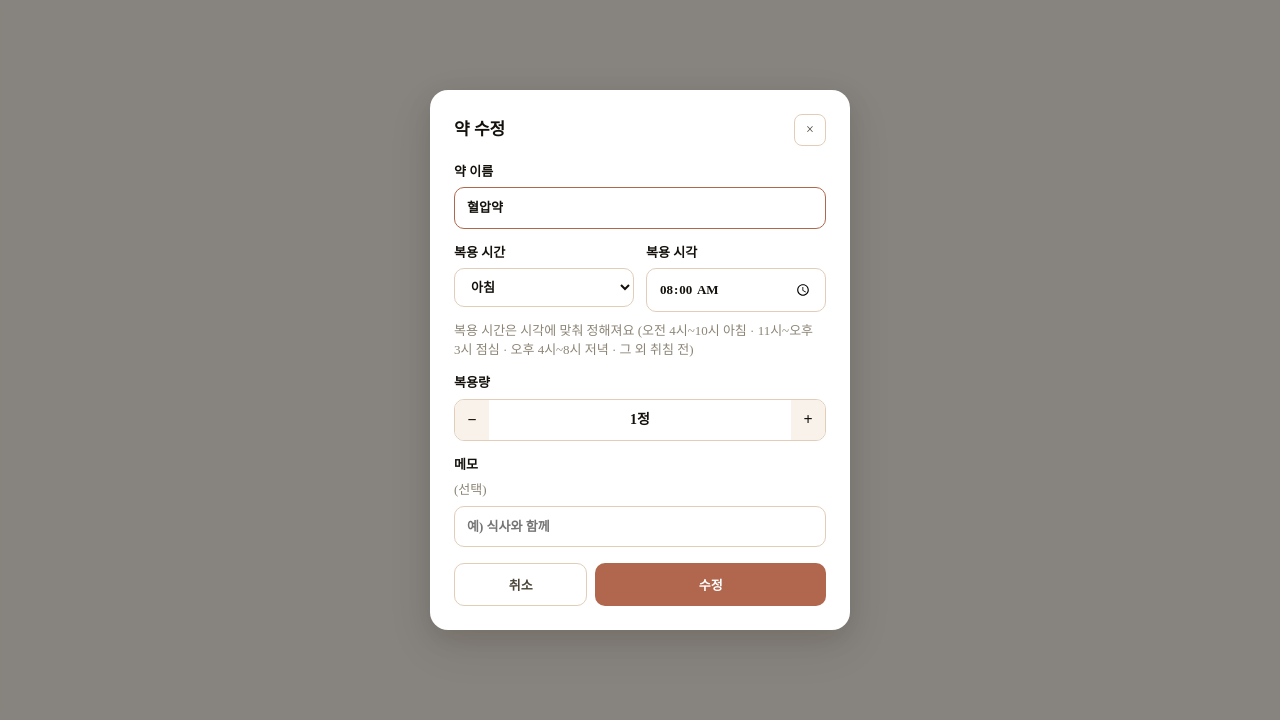
Test: MedicationFormModal (Chrome) › 시각 11:00 → 복용 시간 LUNCH
Replace the text in the time field labelled "복용 시각" with "11:00" at (736, 290), box [646, 268, 826, 312]
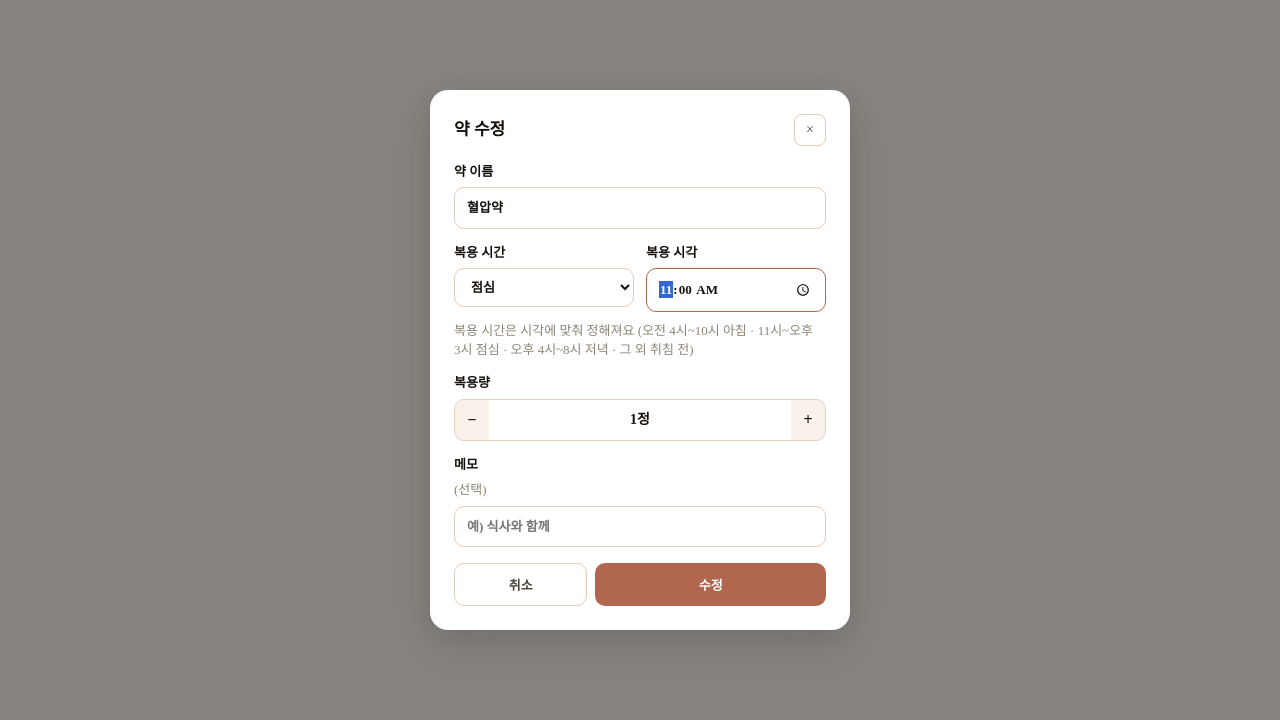
Now the dropdown labelled "복용 시간" shows "점심", box [454, 268, 634, 307]
